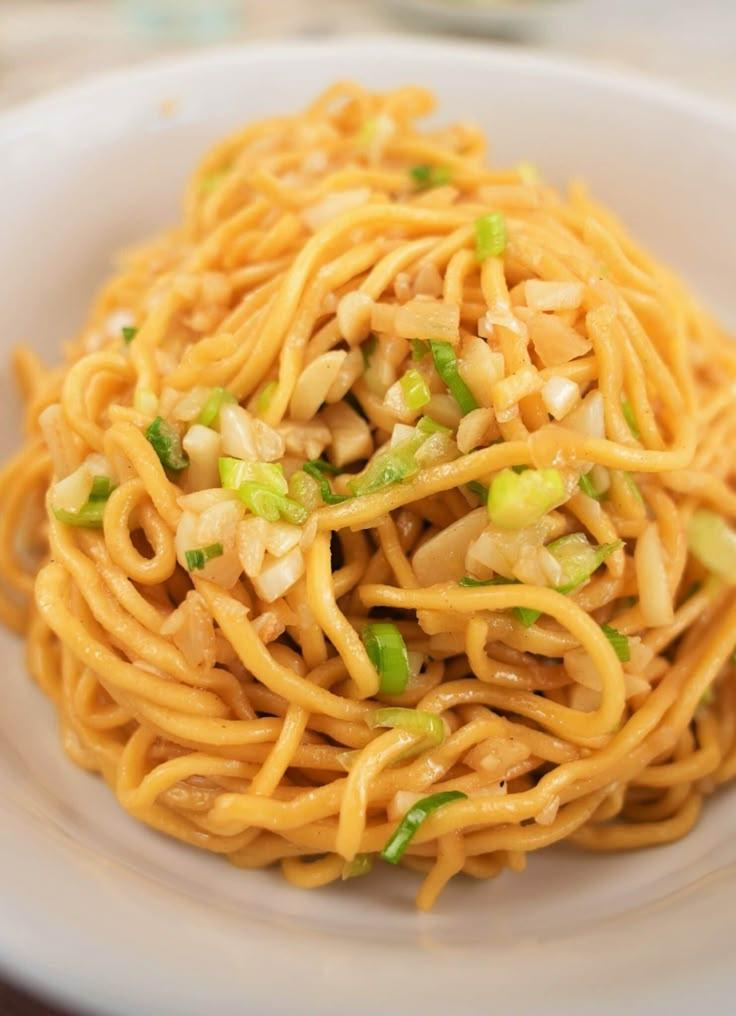pancit bihon: (0, 70, 736, 978)
